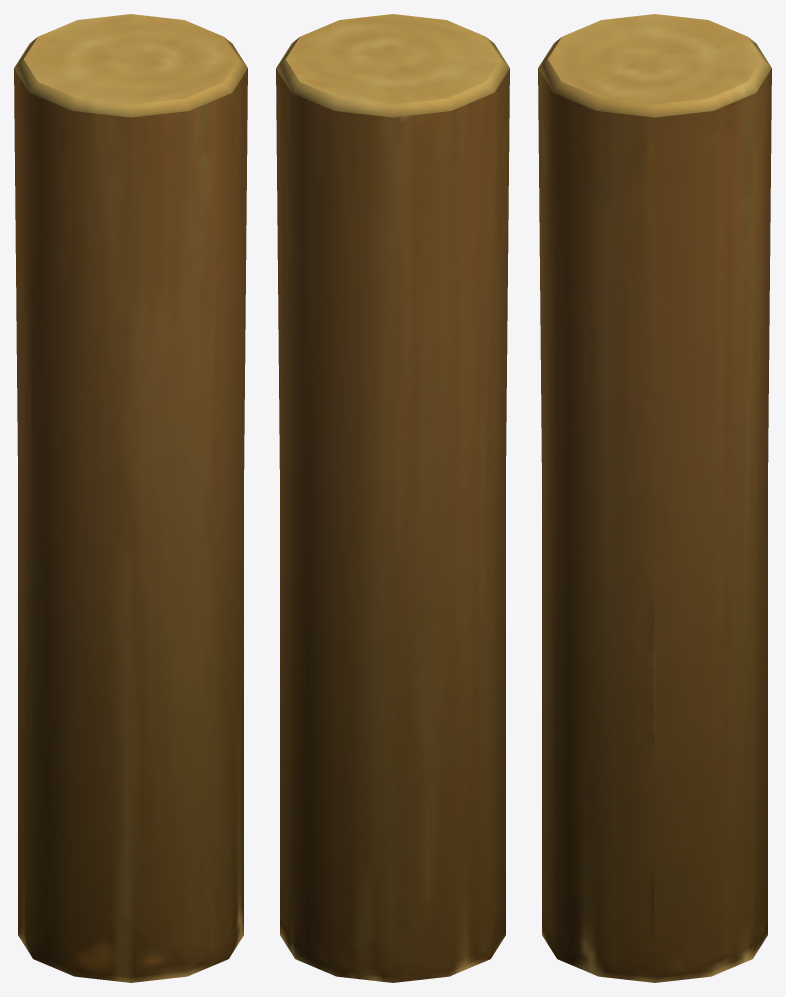
The model's file is Model_woodpile_02.fbx.
3 views of the same model, side by side, from view 1: azimuth 30°, elevation 25°; view 2: azimuth 150°, elevation 25°; view 3: azimuth 270°, elevation 25° (orthographic).
Visible parts, largest first — view 1: polySurface2; view 2: polySurface2; view 3: polySurface2.
Part boxes in pixels (box(x1,y1,x2,y2)): polySurface2: box(14, 14, 247, 982); polySurface2: box(276, 14, 509, 982); polySurface2: box(538, 14, 771, 982).
Size of the model in its own units: 1492 by 6162 by 1492.
